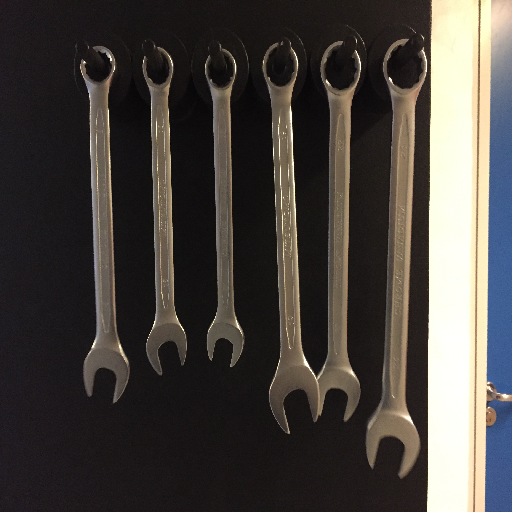bottom: (364, 406, 422, 481), (267, 363, 322, 433), (311, 360, 362, 426), (81, 342, 133, 405), (144, 320, 189, 375), (204, 315, 246, 370)
top: (381, 36, 429, 95), (318, 38, 364, 99), (260, 41, 301, 94), (76, 43, 121, 88), (202, 47, 240, 95), (140, 46, 175, 91)
